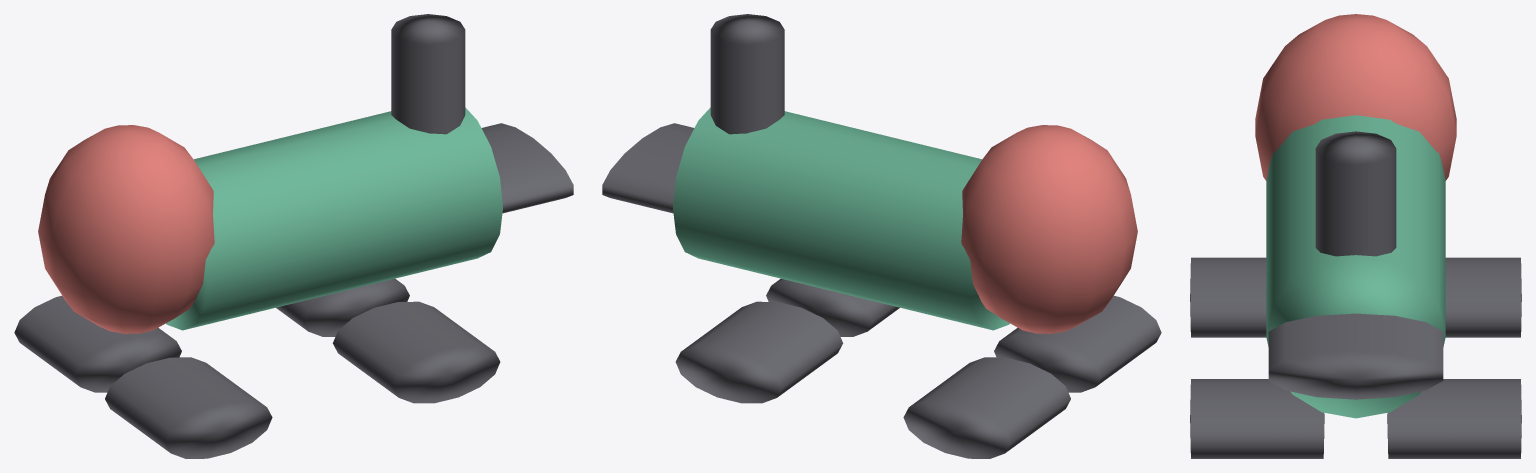
Rendered from train.glb.
The picture shows the model from 3 angles, left to right: view 1: azimuth 30°, elevation 25°; view 2: azimuth 150°, elevation 25°; view 3: azimuth 270°, elevation 25°; orthographic projection. The views are drawn at different scales.
Visible parts, largest first — view 1: Boiler, Cab, WheelFrontLeft, WheelBackLeft, Funnel, WheelBackRight, Front, WheelFrontRight; view 2: Boiler, Cab, WheelFrontRight, WheelBackRight, Funnel, WheelBackLeft, Front, WheelFrontLeft; view 3: Boiler, Cab, Front, Funnel, WheelFrontLeft, WheelFrontRight, WheelBackLeft, WheelBackRight.
Part boxes in pixels (<box>): Boiler: <box>166,107,502,330</box>; Cab: <box>38,125,214,333</box>; WheelFrontLeft: <box>332,301,500,403</box>; WheelBackLeft: <box>105,357,272,458</box>; Funnel: <box>391,14,465,134</box>; WheelBackRight: <box>14,295,181,392</box>; Front: <box>481,123,573,213</box>; WheelFrontRight: <box>276,278,409,336</box>; Boiler: <box>673,107,1009,330</box>; Cab: <box>961,125,1137,333</box>; WheelFrontRight: <box>675,301,843,403</box>; WheelBackRight: <box>903,357,1070,458</box>; Funnel: <box>710,14,784,134</box>; WheelBackLeft: <box>994,295,1161,392</box>; Front: <box>602,123,694,213</box>; WheelFrontLeft: <box>766,278,899,336</box>; Boiler: <box>1266,115,1445,418</box>; Cab: <box>1255,14,1456,180</box>; Front: <box>1268,313,1443,399</box>; Funnel: <box>1315,131,1396,256</box>; WheelFrontLeft: <box>1190,379,1324,458</box>; WheelFrontRight: <box>1387,379,1521,458</box>; WheelBackLeft: <box>1190,257,1266,337</box>; WheelBackRight: <box>1445,257,1521,337</box>.
Size of the model in its own units: 1.38 by 0.8282 by 0.74.
